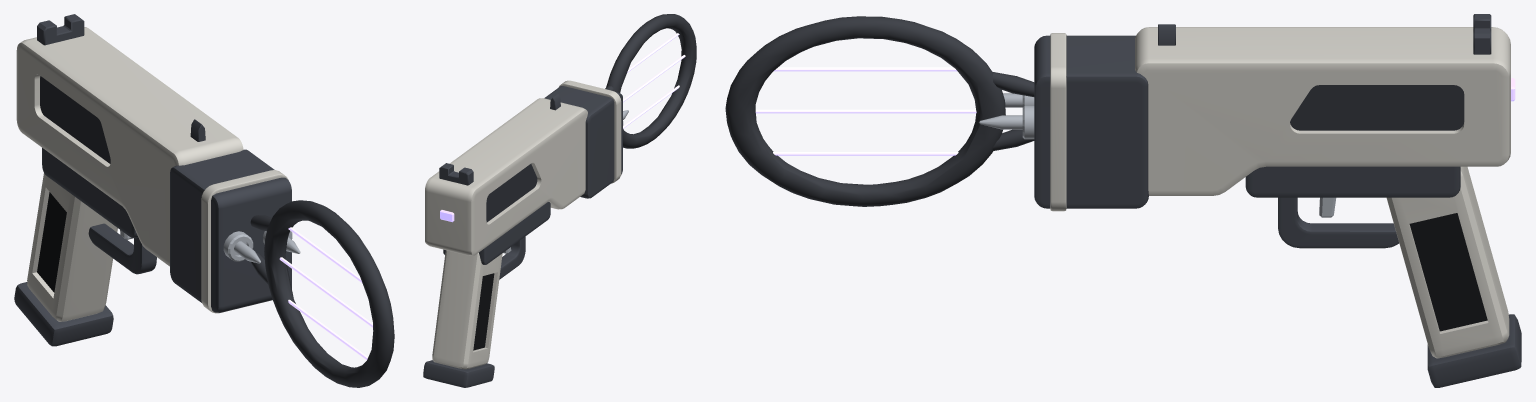
Rendered from w_taser@taser_zapper.glb.
3 renders of one model, left to right at view 1: azimuth 30°, elevation 25°; view 2: azimuth 150°, elevation 25°; view 3: azimuth 270°, elevation 25°, orthographic. The views are drawn at different scales.
Visible parts, largest first — view 1: body_wzA__body__pd8d6cf, cart_wzB__frame__p444851, racket_wzB__ring__p3a3d44, grip_wzA__body__pd8d6cf, batt_wzB__frame__p444851, body_wzN__dark__p353840, lower_wzB__frame__p444851, cart_wzN__body__pd8d6cf, guard_wzB__frame__p444851, grip_wzN__black__p16171b, sight_wzN__frame__p444851, wire_wzN__lit__n9a8cff (+2 smaller); view 2: body_wzA__body__pd8d6cf, grip_wzA__body__pd8d6cf, racket_wzB__ring__p3a3d44, cart_wzB__frame__p444851, body_wzN__dark__p353840, batt_wzB__frame__p444851, lower_wzB__frame__p444851, cart_wzN__body__pd8d6cf, grip_wzN__black__p16171b, sight_wzN__frame__p444851, wire_wzN__lit__n9a8cff, guard_wzB__frame__p444851; view 3: body_wzA__body__pd8d6cf, racket_wzB__ring__p3a3d44, cart_wzB__frame__p444851, grip_wzA__body__pd8d6cf, body_wzN__dark__p353840, lower_wzB__frame__p444851, grip_wzN__black__p16171b, guard_wzB__frame__p444851, batt_wzB__frame__p444851, cart_wzN__body__pd8d6cf, wire_wzN__lit__n9a8cff, sight_wzN__frame__p444851 (+1 smaller).
Part boxes in pixels (bbox=[...]): body_wzA__body__pd8d6cf: bbox=[16, 27, 243, 266]; cart_wzB__frame__p444851: bbox=[170, 149, 291, 312]; racket_wzB__ring__p3a3d44: bbox=[250, 200, 394, 387]; grip_wzA__body__pd8d6cf: bbox=[27, 173, 117, 321]; batt_wzB__frame__p444851: bbox=[14, 282, 113, 346]; body_wzN__dark__p353840: bbox=[40, 76, 110, 163]; lower_wzB__frame__p444851: bbox=[42, 148, 138, 238]; cart_wzN__body__pd8d6cf: bbox=[201, 170, 288, 313]; guard_wzB__frame__p444851: bbox=[88, 223, 156, 274]; grip_wzN__black__p16171b: bbox=[37, 192, 66, 292]; sight_wzN__frame__p444851: bbox=[37, 14, 205, 141]; wire_wzN__lit__n9a8cff: bbox=[279, 227, 372, 359]; body_wzA__body__pd8d6cf: bbox=[425, 98, 587, 255]; grip_wzA__body__pd8d6cf: bbox=[432, 250, 502, 369]; racket_wzB__ring__p3a3d44: bbox=[605, 14, 696, 148]; cart_wzB__frame__p444851: bbox=[544, 86, 622, 198]; body_wzN__dark__p353840: bbox=[486, 164, 537, 222]; batt_wzB__frame__p444851: bbox=[423, 360, 494, 387]; lower_wzB__frame__p444851: bbox=[443, 202, 550, 264]; cart_wzN__body__pd8d6cf: bbox=[559, 80, 621, 183]; grip_wzN__black__p16171b: bbox=[473, 273, 494, 350]; sight_wzN__frame__p444851: bbox=[439, 94, 560, 185]; wire_wzN__lit__n9a8cff: bbox=[623, 33, 685, 128]; guard_wzB__frame__p444851: bbox=[499, 236, 525, 279]; body_wzA__body__pd8d6cf: bbox=[1135, 27, 1510, 195]; racket_wzB__ring__p3a3d44: bbox=[725, 16, 1034, 206]; cart_wzB__frame__p444851: bbox=[1034, 35, 1148, 208]; grip_wzA__body__pd8d6cf: bbox=[1386, 166, 1509, 358]; body_wzN__dark__p353840: bbox=[1290, 85, 1464, 130]; lower_wzB__frame__p444851: bbox=[1245, 166, 1460, 197]; grip_wzN__black__p16171b: bbox=[1409, 213, 1487, 331]; guard_wzB__frame__p444851: bbox=[1278, 197, 1398, 248]; batt_wzB__frame__p444851: bbox=[1427, 314, 1521, 387]; cart_wzN__body__pd8d6cf: bbox=[1050, 33, 1066, 211]; wire_wzN__lit__n9a8cff: bbox=[755, 67, 976, 155]; sight_wzN__frame__p444851: bbox=[1158, 14, 1491, 54].
Size of the model in its own units: 0.061 by 0.2189 by 0.4442.
